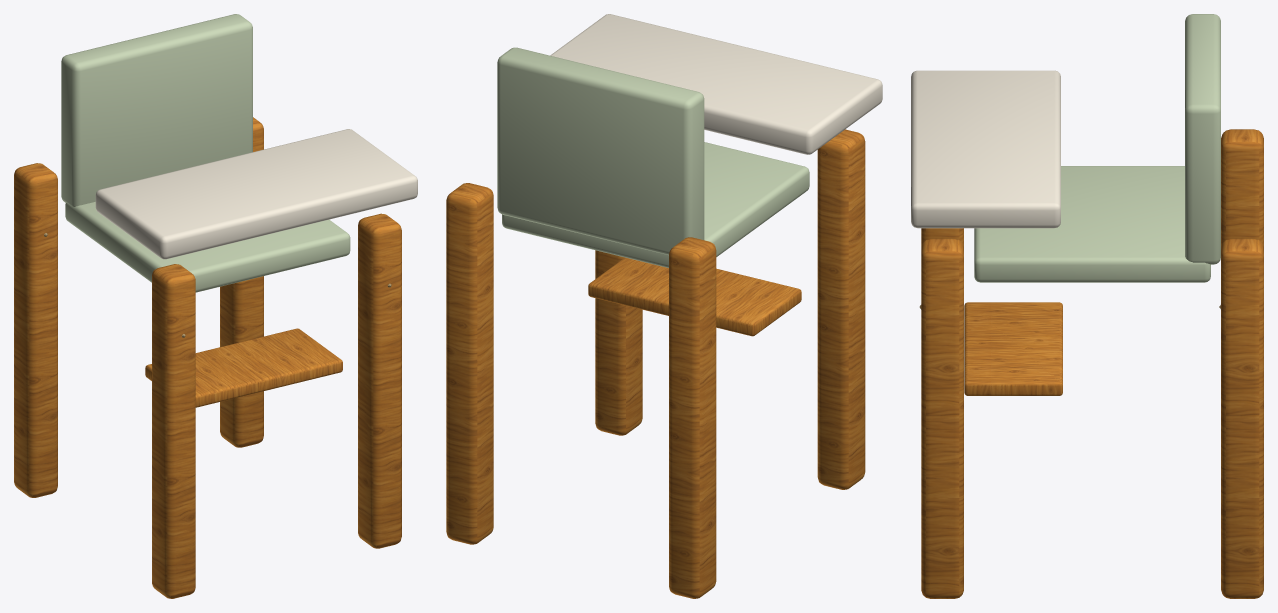
The model's file is high-chair.glb.
The picture shows the model from 3 angles, left to right: view 1: azimuth 30°, elevation 25°; view 2: azimuth 150°, elevation 25°; view 3: azimuth 270°, elevation 25°; orthographic projection. The views are drawn at different scales.
Parts seen in each view (by area): view 1: high-chair; view 2: high-chair; view 3: high-chair.
Part boxes in pixels (x1,y1,x2,y2): high-chair: (14, 14, 417, 598); high-chair: (446, 14, 882, 598); high-chair: (911, 14, 1263, 598).
Size of the model in its own units: 0.55 by 0.9 by 0.6.
4 materials, 1 textured.
